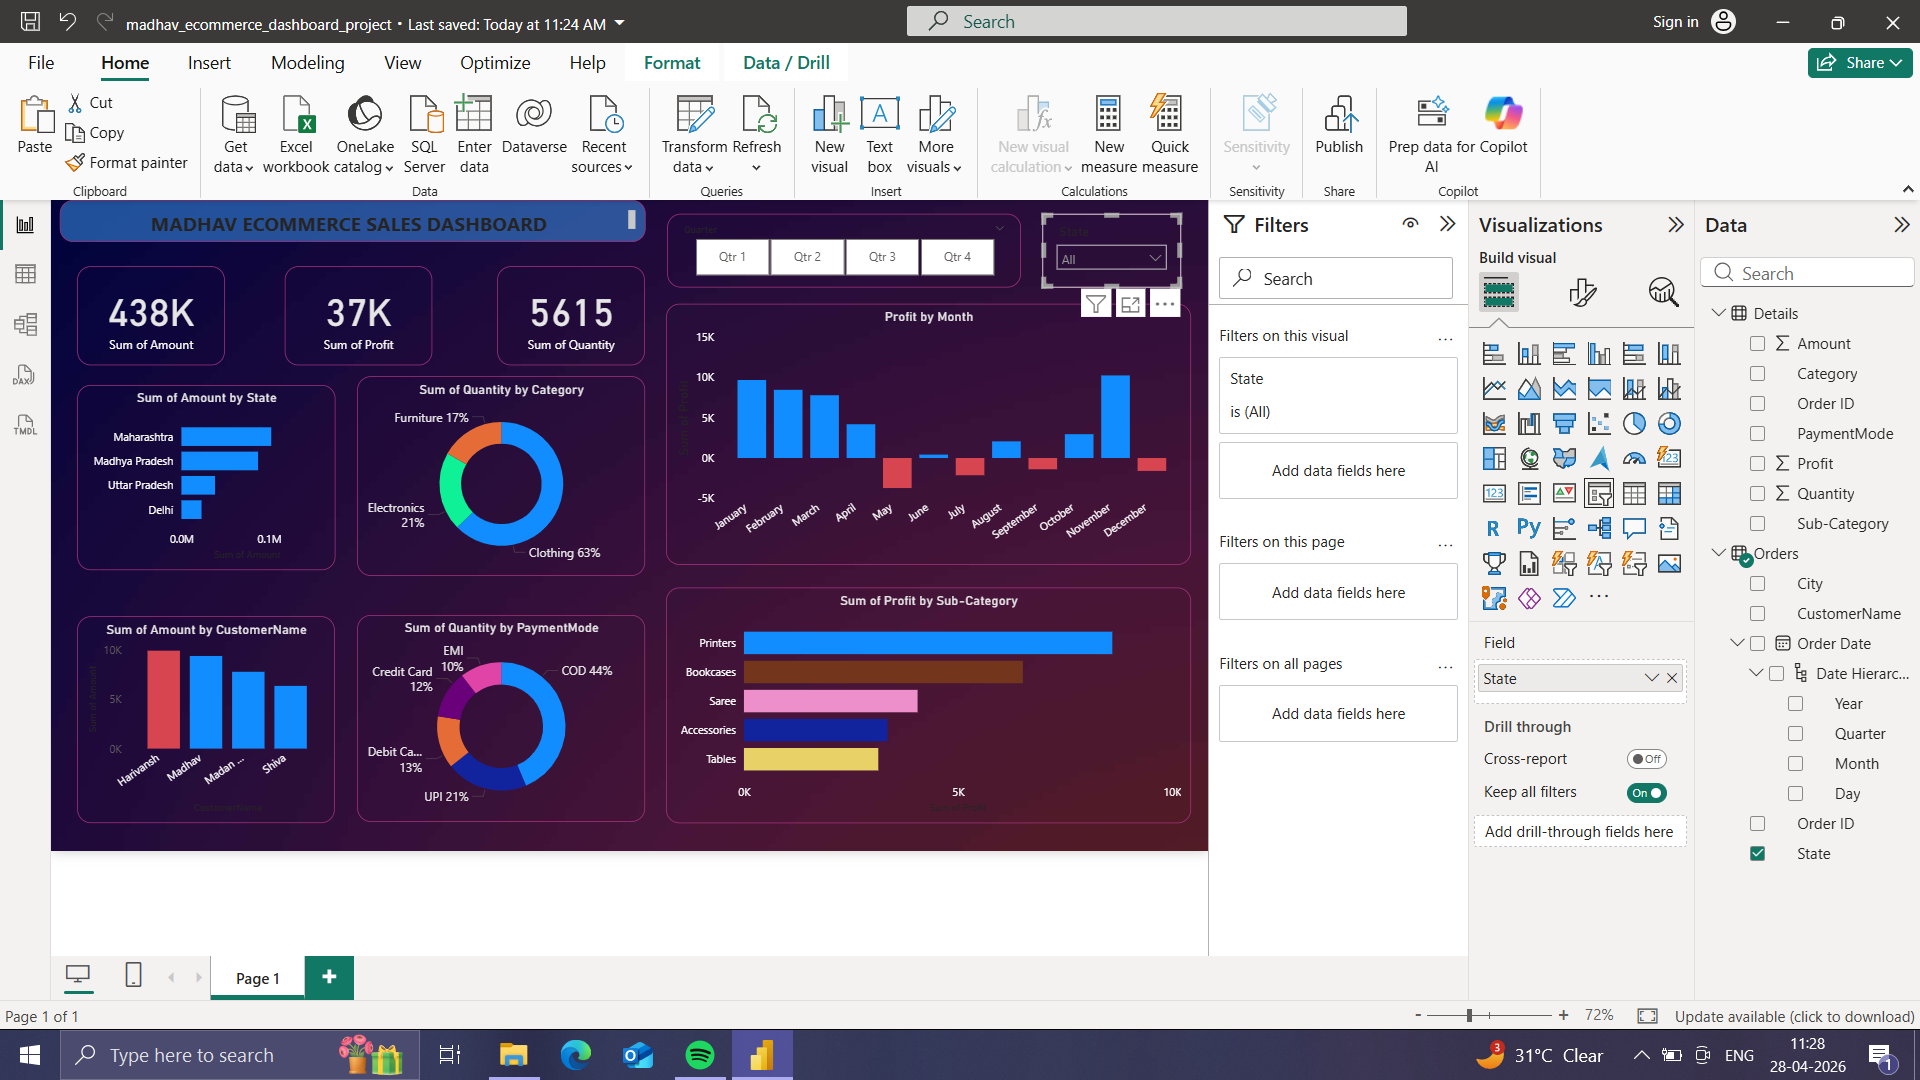

This screenshot's page, from the dashboard's own definition file:
{"tool":"powerbi","page":{"name":"Page 1","canvas":[1280,720],"ordinal":0},"visuals":[{"type":"textbox","box":[9.6,0,647.7,46.7],"z":0},{"type":"columnChart","title":" Profit by Month","fields":{"Category":["Orders.Order Date.Variation.Date Hierarchy.Month"],"Y":["Sum(Details.Profit)"]},"box":[680.2,114.8,580.7,289],"z":1000},{"type":"barChart","fields":{"Category":["Details.Sub-Category"],"Y":["Sum(Details.Profit)"]},"box":[680.6,428.1,580.4,260.7],"z":2000},{"type":"donutChart","fields":{"Category":["Details.Category"],"Y":["Sum(Details.Quantity)"]},"box":[338.9,194.9,318.4,220.9],"z":3000},{"type":"donutChart","fields":{"Y":["Sum(Details.Quantity)"],"Category":["Details.PaymentMode"]},"box":[338.9,459.7,318.4,229.2],"z":4000},{"type":"card","fields":{"Values":["Sum(Details.Amount)"]},"box":[28.8,72.7,163.3,109.8],"z":5000},{"type":"card","fields":{"Values":["Sum(Details.Profit)"]},"box":[258,72.7,163.3,109.8],"z":6000},{"type":"card","fields":{"Values":["Sum(Details.Quantity)"]},"box":[494,72.7,163.3,109.8],"z":7000},{"type":"barChart","fields":{"Category":["Orders.State"],"Y":["Sum(Details.Amount)"]},"box":[28.8,204.5,285.4,204.5],"z":8000},{"type":"columnChart","fields":{"Category":["Orders.CustomerName"],"Y":["Sum(Details.Amount)"]},"box":[29,460,285,229],"z":9000},{"type":"slicer","fields":{"Values":["Orders.Order Date.Variation.Date Hierarchy.Quarter"]},"box":[681.6,15.2,391.3,81.6],"z":10000},{"type":"slicer","fields":{"Values":["Orders.State"]},"box":[1096.4,15.2,153.5,81.6],"z":10001}]}

Visuals, with their boxes on the page's 1280x720 design canvas (x1, y1, x2, y2). These are canvas units, not pixel positions in the 1920x1080 screenshot, which may show the page scaled, cropped or inside an application window:
textbox: 10 0 657 47
" Profit by Month" columnChart: 680 115 1261 404
barChart - Details.Sub-Category x Sum(Details.Profit): 681 428 1261 689
donutChart - Details.Category x Sum(Details.Quantity): 339 195 657 416
donutChart - Sum(Details.Quantity) x Details.PaymentMode: 339 460 657 689
card - Sum(Details.Amount): 29 73 192 182
card - Sum(Details.Profit): 258 73 421 182
card - Sum(Details.Quantity): 494 73 657 182
barChart - Orders.State x Sum(Details.Amount): 29 204 314 409
columnChart - Orders.CustomerName x Sum(Details.Amount): 29 460 314 689
slicer - Orders.Order Date.Variation.Date Hierarchy.Quarter: 682 15 1073 97
slicer - Orders.State: 1096 15 1250 97
